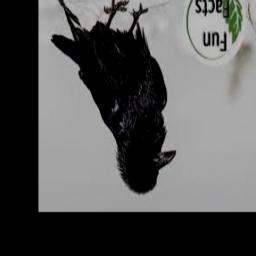Crow: (52, 0, 177, 194)
